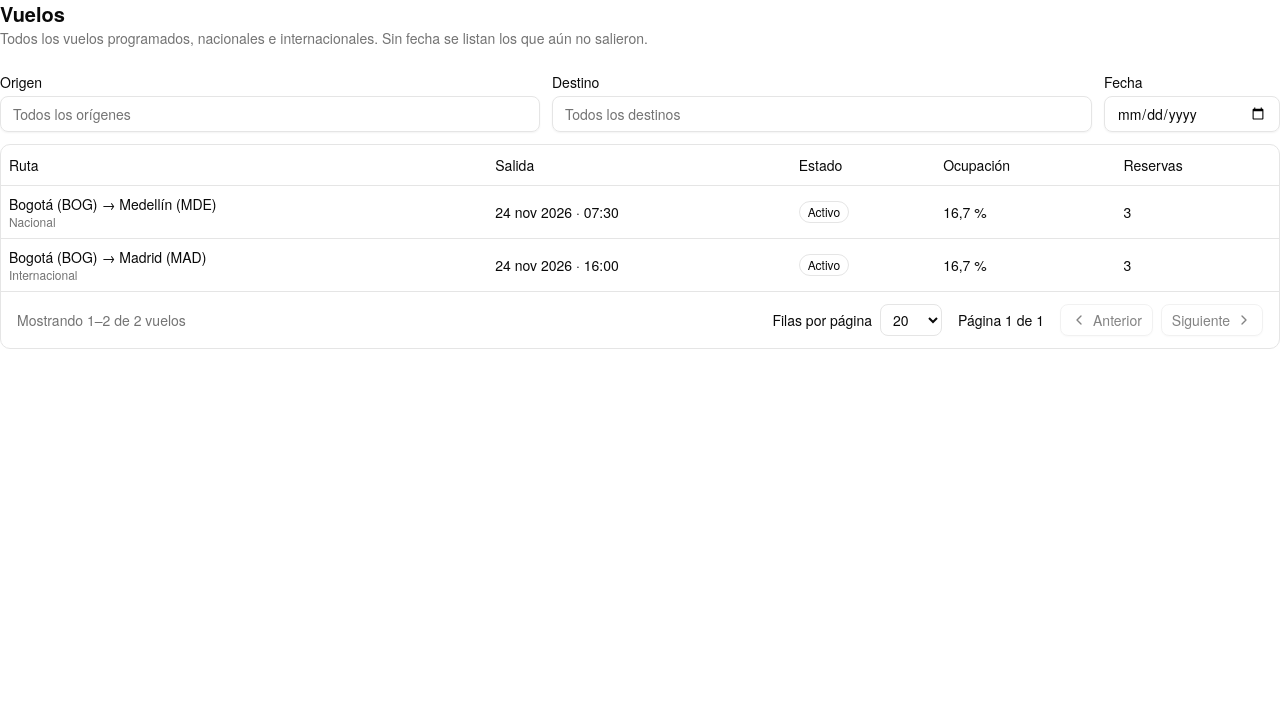
it: sección Vuelos › al dar clic en un vuelo se abre su ventana de detalle con ocupación y pasajeros
Click the text "Bogotá (BOG) → Madrid (MAD)".
click(108, 256)  # box [9,246,206,266]
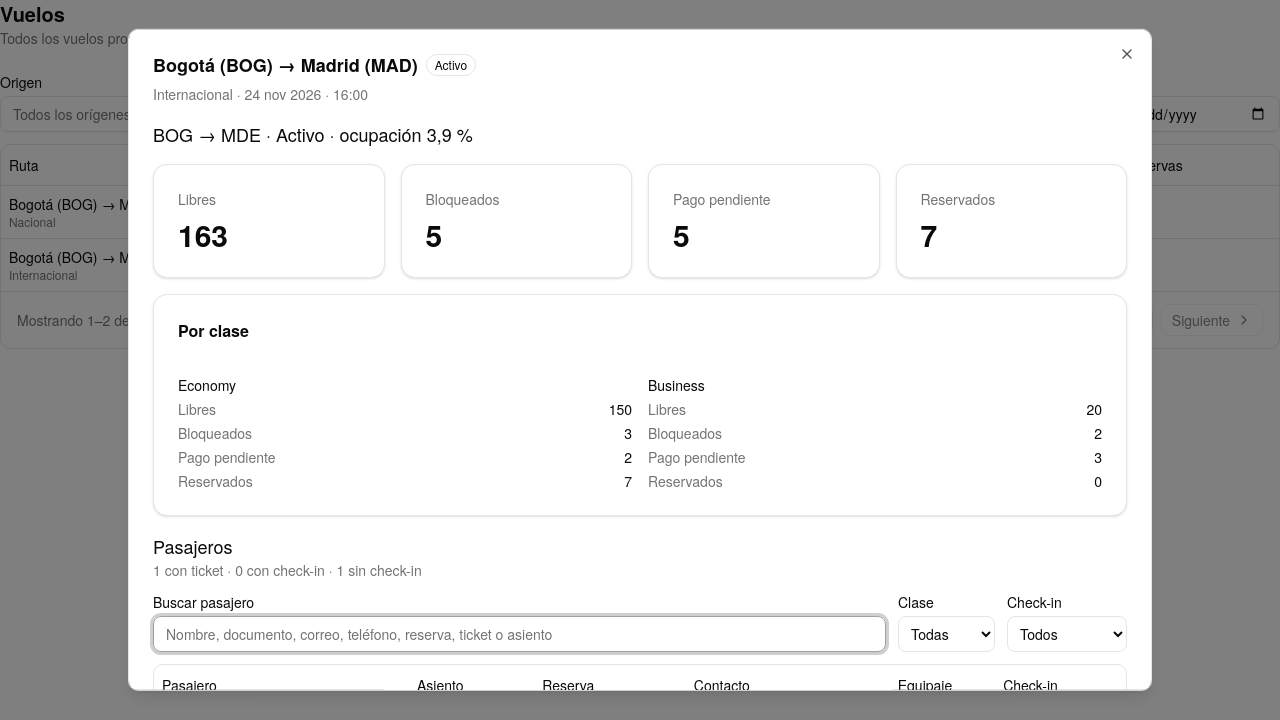
Expected: the text "Pago pendiente" is shown, [673,189,770,209]
